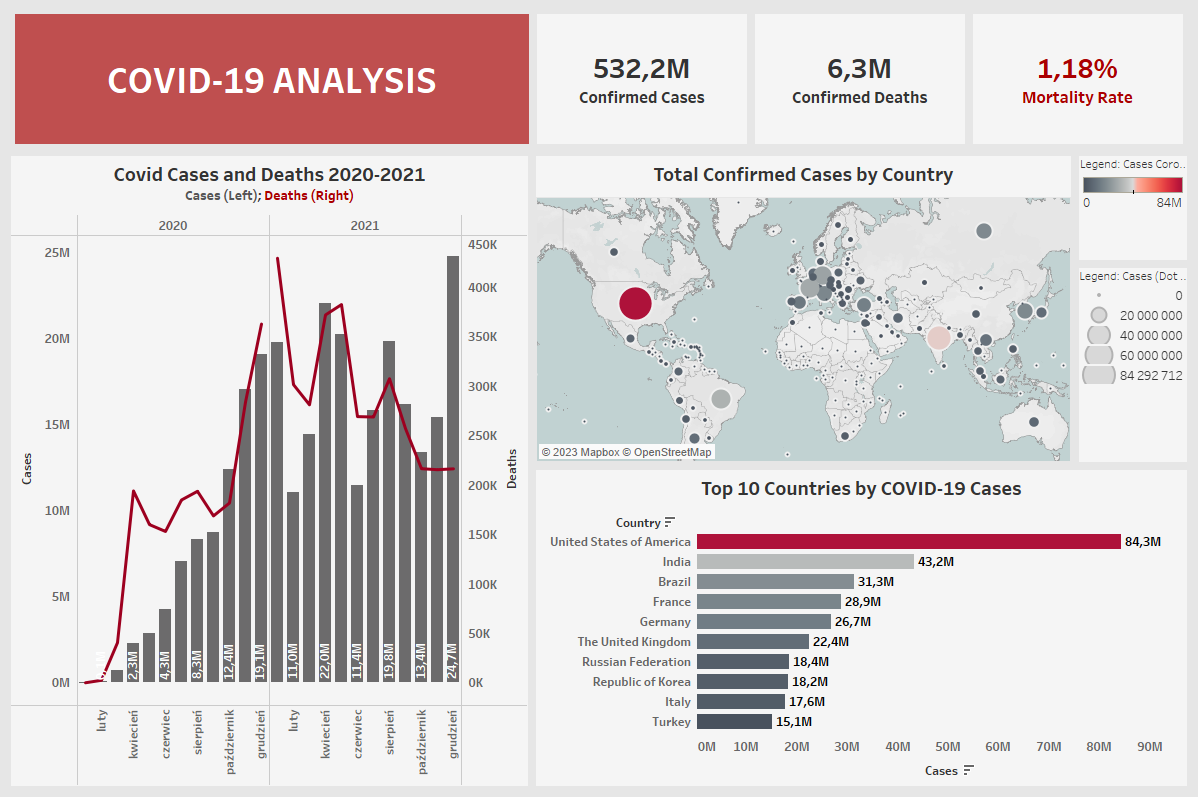

The page's visual inventory and layout, read from the dashboard file:
{"tool":"tableau","page":{"name":"COVID-19 Tracker by Country","canvas":[1200,800],"ordinal":0},"visuals":[{"type":"text","box":[12,12,522,138]},{"type":"worksheet","title":"Cofirmed Cases - Card","mark":"Automatic","box":[534,12,218,138]},{"type":"worksheet","title":"Confirmed Deaths - Card","mark":"Automatic","box":[752,12,218,138]},{"type":"worksheet","title":"Mortality Rate - Card ","mark":"Automatic","box":[970,12,218,138]},{"type":"worksheet","title":"COVID-19 Chart","mark":"Bar","rows":["New_cases","New_deaths"],"cols":["Date_reported","Date_reported"],"box":[8,154,525,638]},{"type":"worksheet","title":"COVID-19 cases by country","mark":"Automatic","box":[533,154,543,314]},{"type":"legend","title":"COVID-19 cases by country","param":"[federated.0q07bvl1pb7gif13tv23u12mlsdu].[sum:New_cases:qk]","box":[1076,154,116,112]},{"type":"legend","title":"COVID-19 cases by country","param":"[federated.0q07bvl1pb7gif13tv23u12mlsdu].[sum:New_cases:qk]","box":[1076,266,116,202]},{"type":"worksheet","title":"Top 10 Countries by Cases","mark":"Automatic","rows":["Country"],"cols":["New_cases"],"box":[533,468,659,324]}]}

Visuals, with their boxes in screenshot pixels (x1, y1, x2, y2), scaled from the page's 1200x800 canvas onto the 1198x797 screenshot:
text: 12,12,533,149
"Cofirmed Cases - Card" worksheet: 533,12,751,149
"Confirmed Deaths - Card" worksheet: 751,12,968,149
"Mortality Rate - Card " worksheet: 968,12,1186,149
"COVID-19 Chart" worksheet (Bar marks): 8,153,532,789
"COVID-19 cases by country" worksheet: 532,153,1074,466
"COVID-19 cases by country" legend: 1074,153,1190,265
"COVID-19 cases by country" legend: 1074,265,1190,466
"Top 10 Countries by Cases" worksheet: 532,466,1190,789
